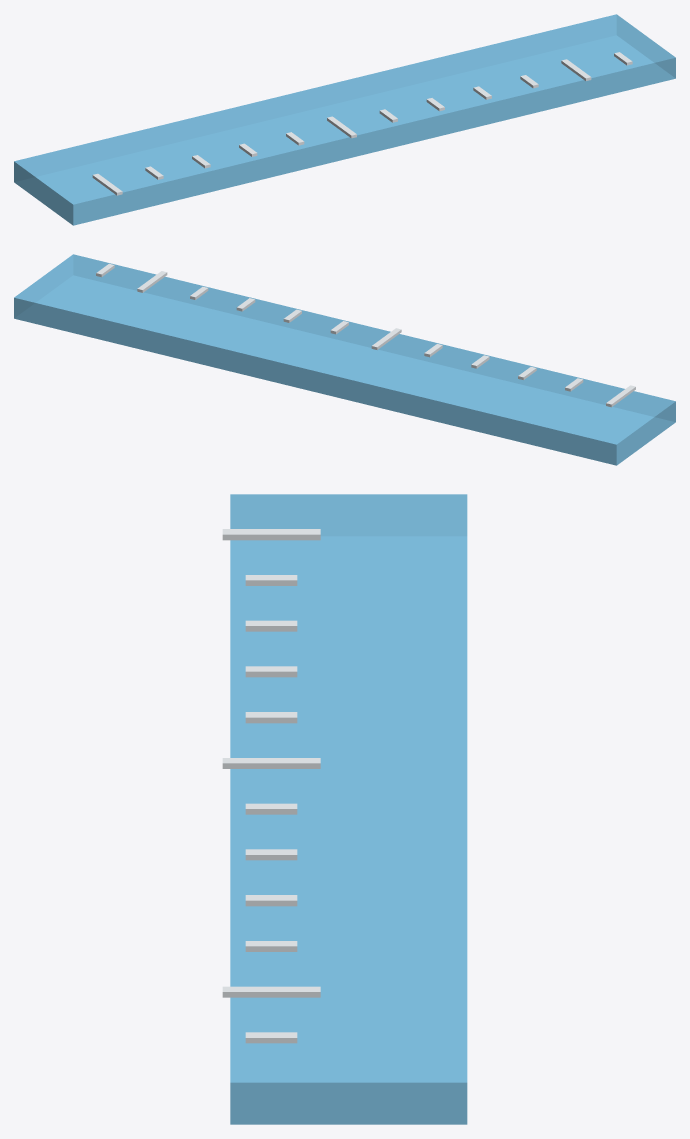
The model's file is plastic-ruler.glb.
3 views of the same model, one above another, from view 1: azimuth 30°, elevation 25°; view 2: azimuth 150°, elevation 25°; view 3: azimuth 270°, elevation 25° (orthographic). The views are drawn at different scales.
Parts seen in each view (by area): view 1: Regla de plástico-plastic, Regla de plástico-white; view 2: Regla de plástico-plastic, Regla de plástico-white; view 3: Regla de plástico-plastic, Regla de plástico-white.
Boxes of the visible parts, x1,y1,x2,y2 form: Regla de plástico-plastic: (14, 14, 675, 225); Regla de plástico-white: (92, 52, 632, 195); Regla de plástico-plastic: (14, 254, 675, 465); Regla de plástico-white: (96, 263, 635, 407); Regla de plástico-plastic: (230, 494, 467, 1124); Regla de plástico-white: (222, 529, 320, 1043).
Bounding box in the file's own units: 2.7 × 0.103 × 0.475.
